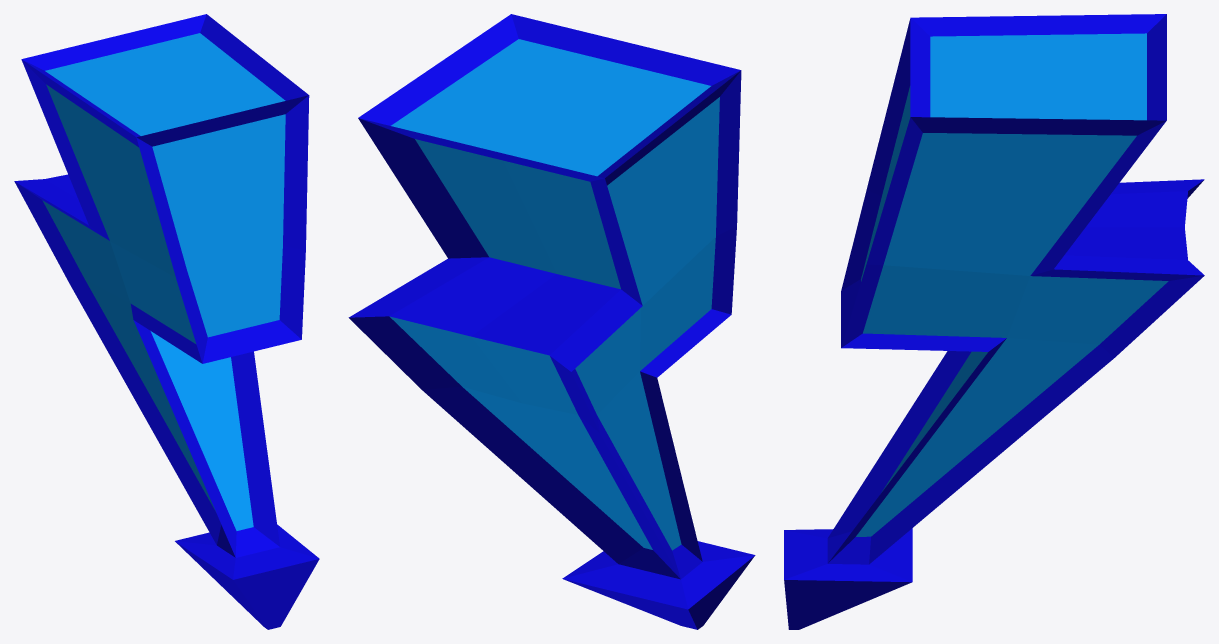
The model's file is Special.fbx.
3 views of the same model, side by side, from view 1: azimuth 30°, elevation 25°; view 2: azimuth 150°, elevation 25°; view 3: azimuth 270°, elevation 25° (orthographic). The views are drawn at different scales.
Parts seen in each view (by area): view 1: Cube.002; view 2: Cube.002; view 3: Cube.002.
Boxes of the visible parts, x1,y1,x2,y2 form: Cube.002: (14, 14, 319, 629); Cube.002: (348, 14, 755, 629); Cube.002: (784, 14, 1204, 629).
Size of the model in its own units: 501 by 1225 by 836.
